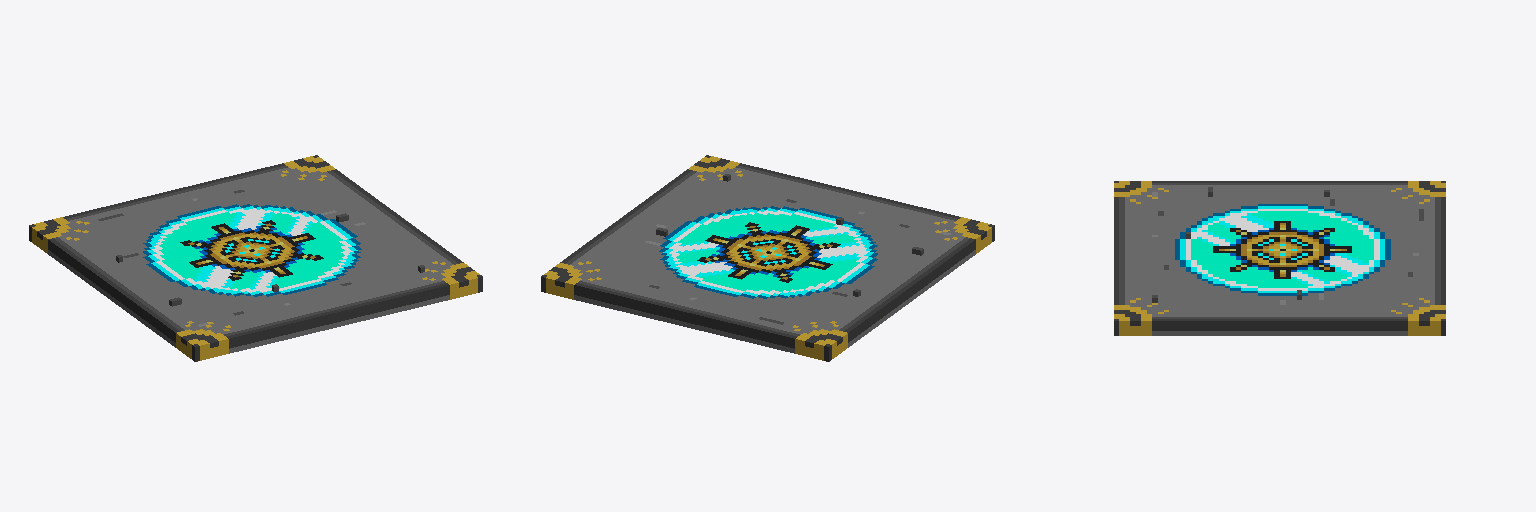
3 views of the same model, side by side, from view 1: azimuth 30°, elevation 25°; view 2: azimuth 150°, elevation 25°; view 3: azimuth 270°, elevation 25° (orthographic).
Visible parts, largest first — view 1: stg1_floor; view 2: stg1_floor; view 3: stg1_floor.
Boxes of the visible parts, <box> form: stg1_floor: <box>29,155,482,361</box>; stg1_floor: <box>541,155,994,361</box>; stg1_floor: <box>1114,181,1445,335</box>.
Bounding box in the file's own units: 60 × 4 × 60.
Materials: 1 (1 with a texture image).